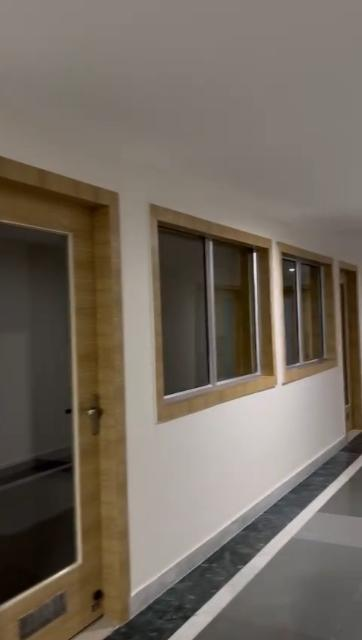door: (0, 170, 119, 624), (340, 266, 362, 428)
floor: (120, 437, 362, 637)
wall: (0, 109, 362, 258), (161, 374, 345, 571), (130, 168, 156, 574)
